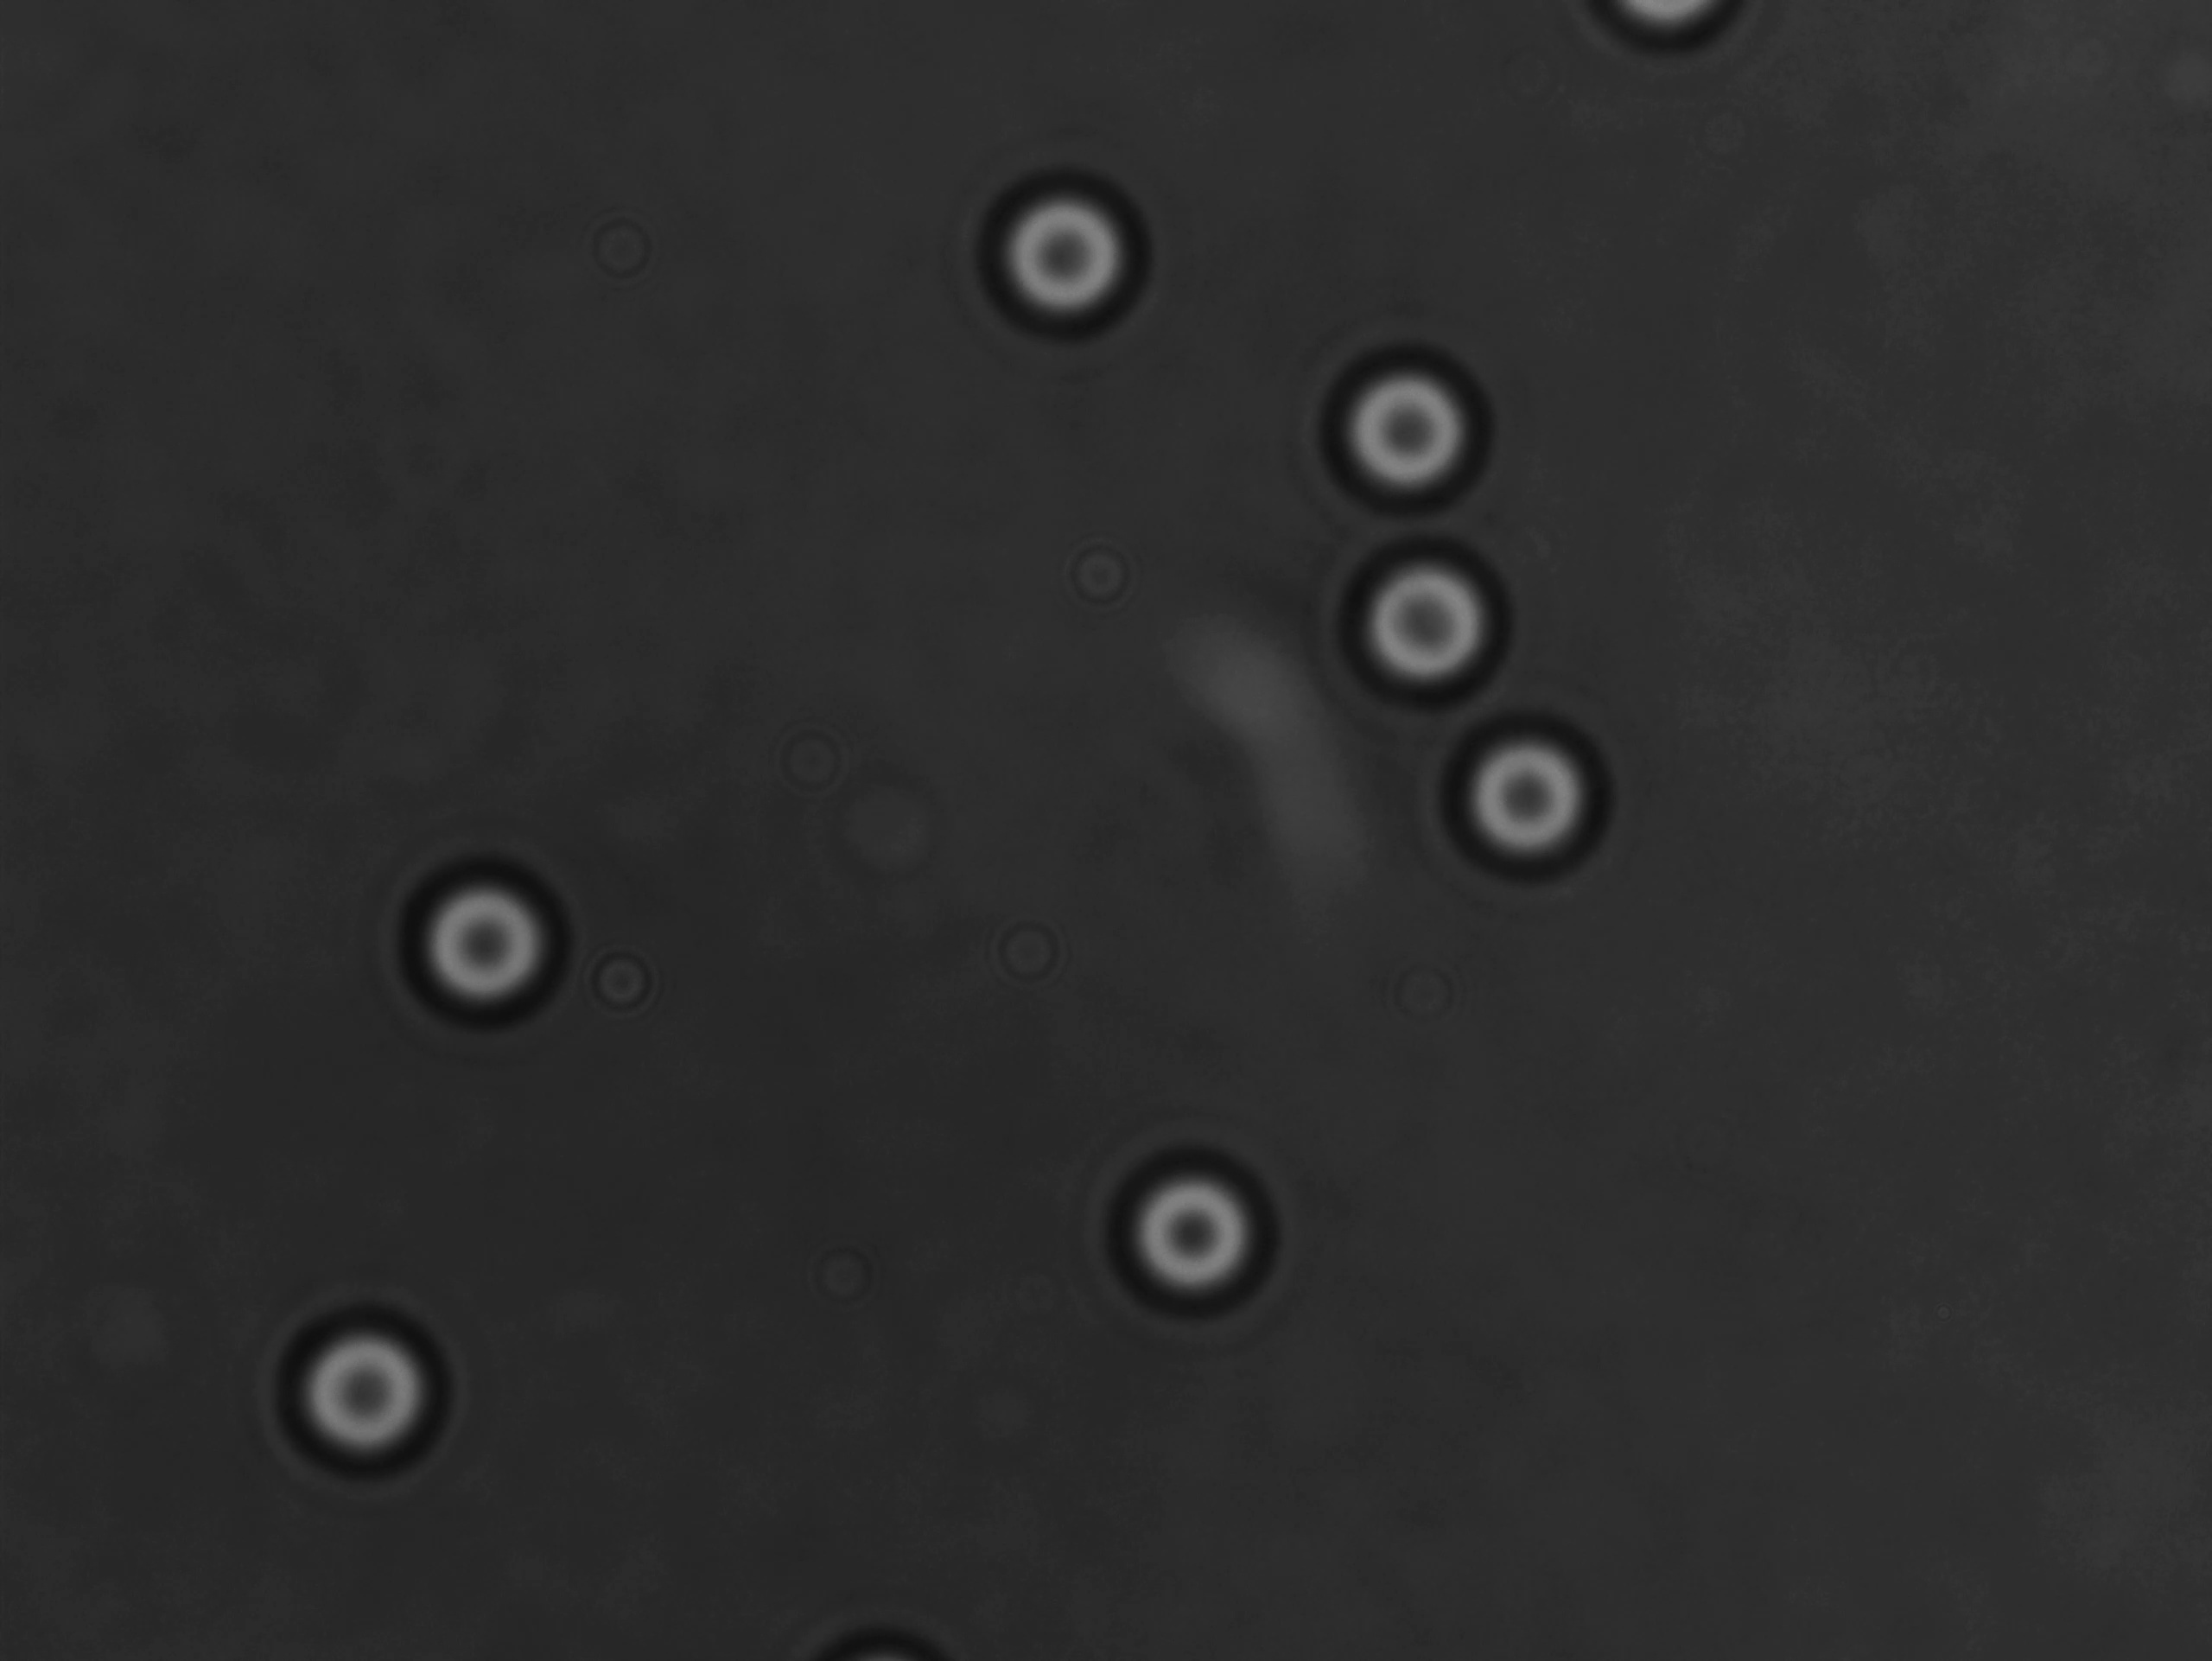depth:80: (1075, 1113, 1298, 1333), (956, 136, 1174, 354), (255, 1281, 488, 1478), (1296, 314, 1514, 525), (1314, 518, 1526, 726), (1429, 684, 1629, 890), (384, 844, 588, 1036)
